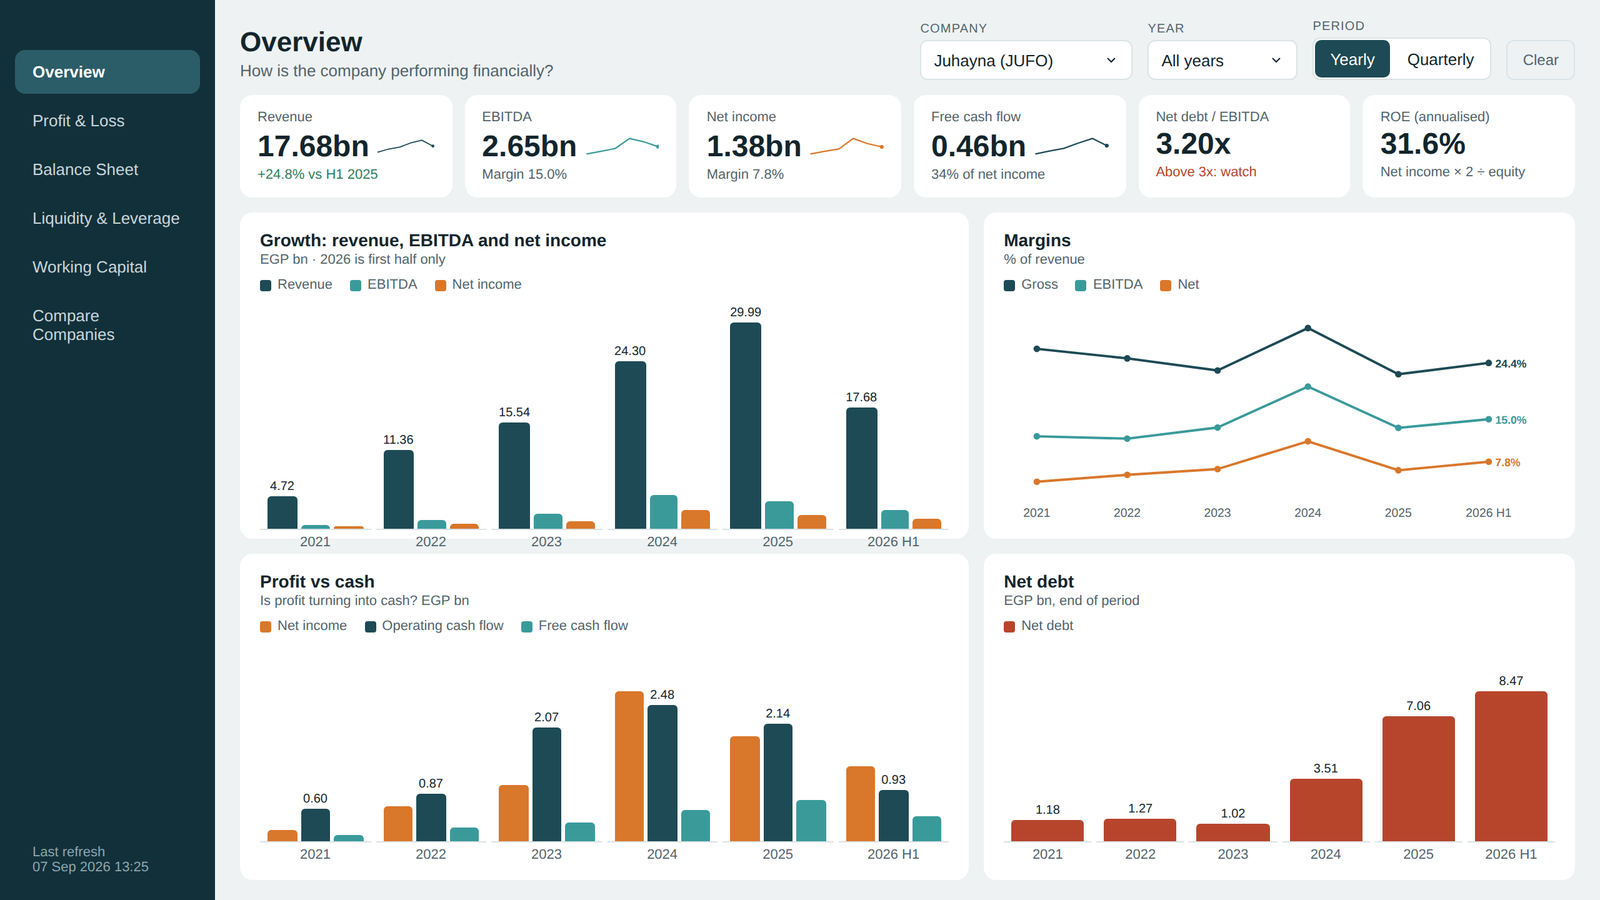

The page's visual inventory and layout, read from the dashboard file:
{"tool":"powerbi","page":{"name":"Overview","canvas":[1280,720],"ordinal":0},"visuals":[{"type":"card","title":"Revenue","fields":{"Values":["Measures List.Revenue (card)"]},"box":[192,78,170,80],"z":10},{"type":"card","title":"EBITDA","fields":{"Values":["Measures List.EBITDA (card)"]},"box":[372,78,170,80],"z":11},{"type":"card","title":"Net income","fields":{"Values":["Measures List.Net Income (card)"]},"box":[551,78,170,80],"z":12},{"type":"card","title":"Free cash flow","fields":{"Values":["Measures List.Free Cash Flow (card)"]},"box":[731,78,170,80],"z":13},{"type":"card","title":"Net debt / EBITDA","fields":{"Values":["Measures List.Net Debt / EBITDA (card)"]},"box":[911,78,170,80],"z":14},{"type":"card","title":"ROE (annualised)","fields":{"Values":["Measures List.ROE (annualised) (card)"]},"box":[1090,78,170,80],"z":15},{"type":"clusteredColumnChart","title":"Growth: revenue, EBITDA and net income","fields":{"Category":["DimDate.Year"],"Y":["Measures List.Revenue (chart)","Measures List.EBITDA (chart)","Measures List.Net Income (chart)"]},"box":[192,170,587,267],"z":20},{"type":"lineChart","title":"Margins","fields":{"Y":["Measures List.Gross Profit % (chart)","Measures List.EBITDA Margin % (chart)","Measures List.Net Income Margin % (chart)"],"Category":["DimDate.Year"]},"box":[791,170,469,267],"z":21},{"type":"clusteredColumnChart","title":"Profit vs cash","fields":{"Category":["DimDate.Year"],"Y":["Measures List.Net Income (chart)","Measures List.Operating Cash Flow (chart)","Measures List.Free Cash Flow (chart)"]},"box":[192,449,587,255],"z":22},{"type":"clusteredColumnChart","title":"Net debt","fields":{"Category":["DimDate.Year"],"Y":["Measures List.Net Debt (chart)"]},"box":[791,449,469,255],"z":23},{"type":"pageNavigator","box":[12,38,150,270],"z":50},{"type":"card","title":"Last refresh","fields":{"Values":["Max(Last Refreash.Date)"]},"box":[12,656,150,52],"z":51},{"type":"textbox","box":[188,0,540,46],"z":52},{"type":"textbox","box":[188,44,540,30],"z":53},{"type":"slicer","title":"COMPANY","fields":{"Values":["FactFinancials.Company"]},"box":[736,10,170,56],"z":54},{"type":"slicer","title":"YEAR","fields":{"Values":["DimDate.Year"]},"box":[918,10,120,56],"z":55},{"type":"actionButton","box":[1205,34,55,30],"z":56}]}

Visuals, with their boxes on the page's 1280x720 design canvas (x1, y1, x2, y2). These are canvas units, not pixel positions in the 1600x900 screenshot, which may show the page scaled, cropped or inside an application window:
"Revenue" card: detection(192, 78, 362, 158)
"EBITDA" card: detection(372, 78, 542, 158)
"Net income" card: detection(551, 78, 721, 158)
"Free cash flow" card: detection(731, 78, 901, 158)
"Net debt / EBITDA" card: detection(911, 78, 1081, 158)
"ROE (annualised)" card: detection(1090, 78, 1260, 158)
"Growth: revenue, EBITDA and net income" clusteredColumnChart: detection(192, 170, 779, 437)
"Margins" lineChart: detection(791, 170, 1260, 437)
"Profit vs cash" clusteredColumnChart: detection(192, 449, 779, 704)
"Net debt" clusteredColumnChart: detection(791, 449, 1260, 704)
pageNavigator: detection(12, 38, 162, 308)
"Last refresh" card: detection(12, 656, 162, 708)
textbox: detection(188, 0, 728, 46)
textbox: detection(188, 44, 728, 74)
"COMPANY" slicer: detection(736, 10, 906, 66)
"YEAR" slicer: detection(918, 10, 1038, 66)
actionButton: detection(1205, 34, 1260, 64)
